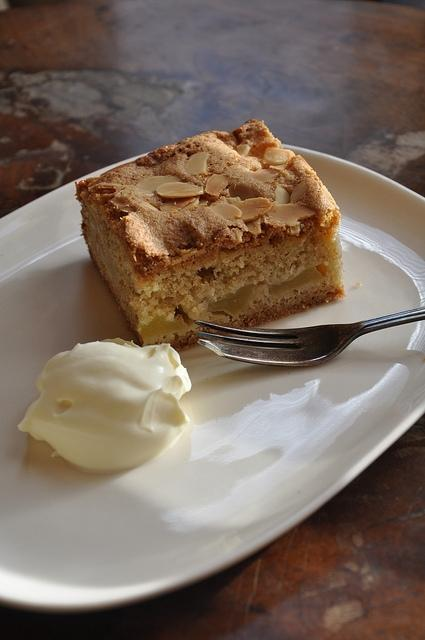almond: (267, 203, 316, 226), (230, 198, 276, 222), (156, 182, 205, 199), (136, 176, 186, 192), (184, 152, 210, 176), (210, 202, 243, 220), (160, 196, 196, 212), (204, 174, 229, 196), (264, 146, 290, 164), (290, 180, 309, 202), (252, 169, 278, 182), (274, 185, 290, 204), (237, 144, 251, 158)
